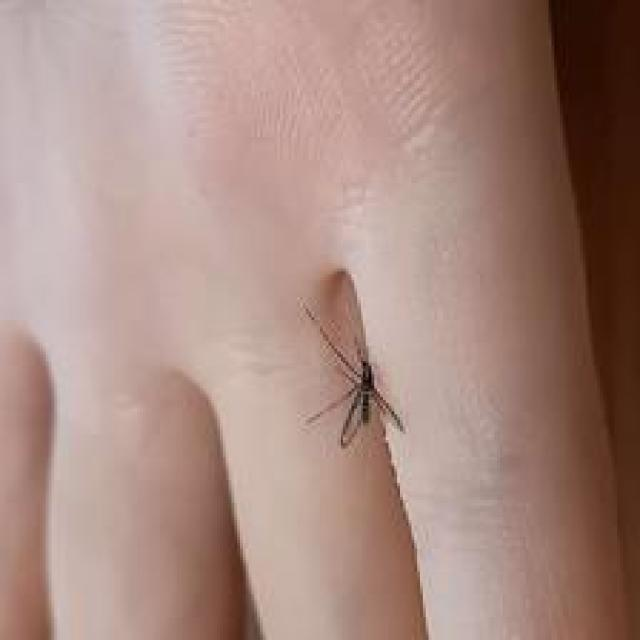Aedes albopictus: (297, 270, 406, 450)
